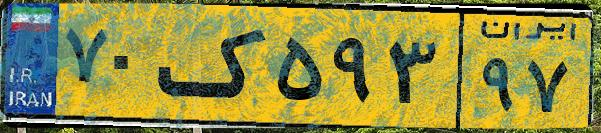0: (110, 28, 158, 98)
3: (385, 28, 445, 110)
5: (270, 28, 330, 110)
7: (57, 26, 110, 100), (525, 38, 570, 115)
9: (330, 28, 385, 110), (475, 38, 525, 113)
ک: (158, 12, 270, 120)
